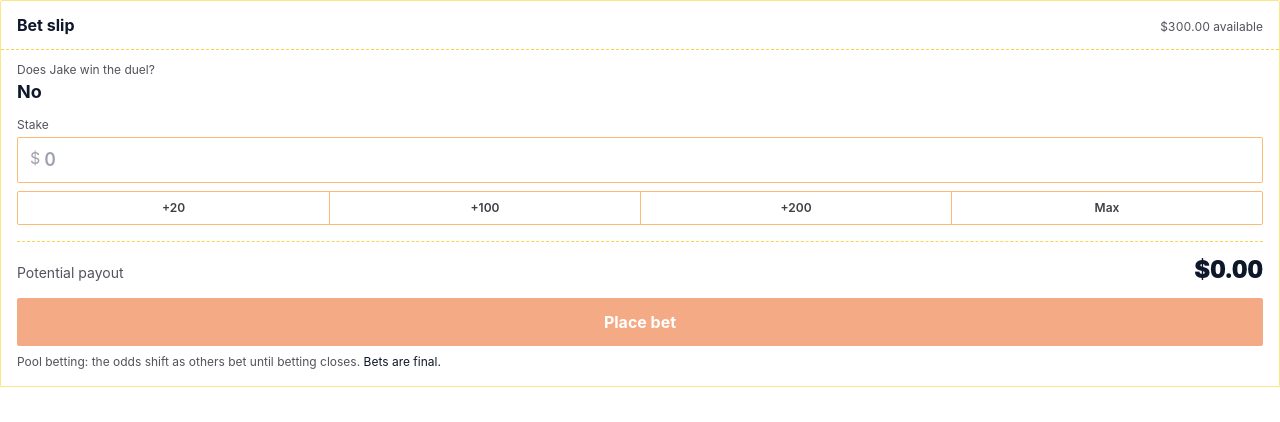
BetSlip › never takes more than the player has available
Type "5000" into the field labelled "Stake". click: [651, 160]
box: top-left (40, 138), bottom-right (1262, 182)
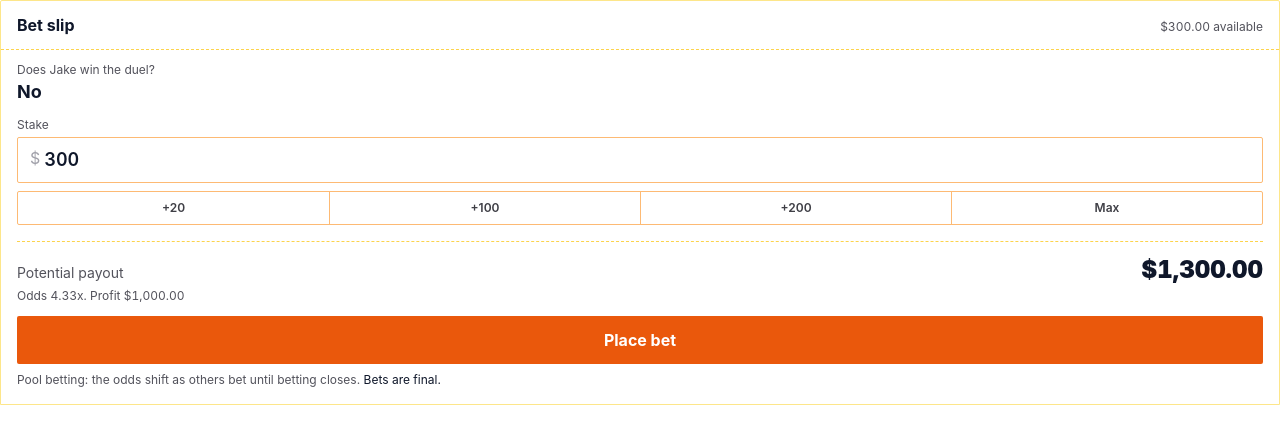
expect the field labelled "Stake" holds "300": met, box top-left (40, 138), bottom-right (1262, 182)
